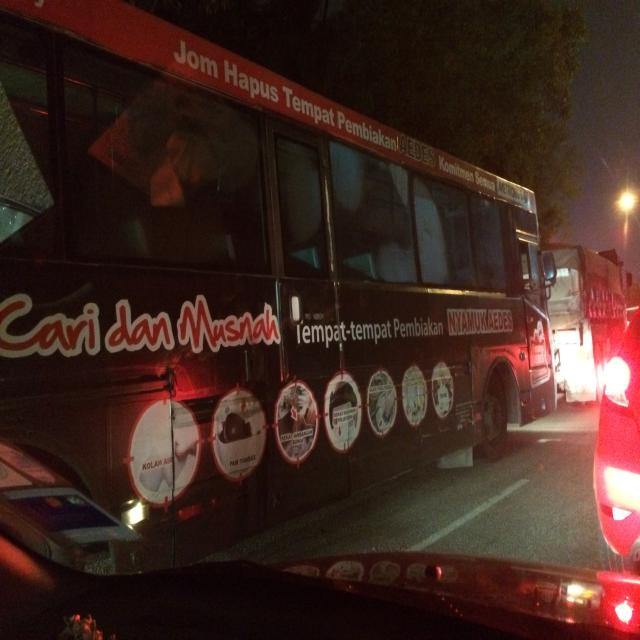Bus: (0, 0, 579, 541), (535, 225, 640, 437)
